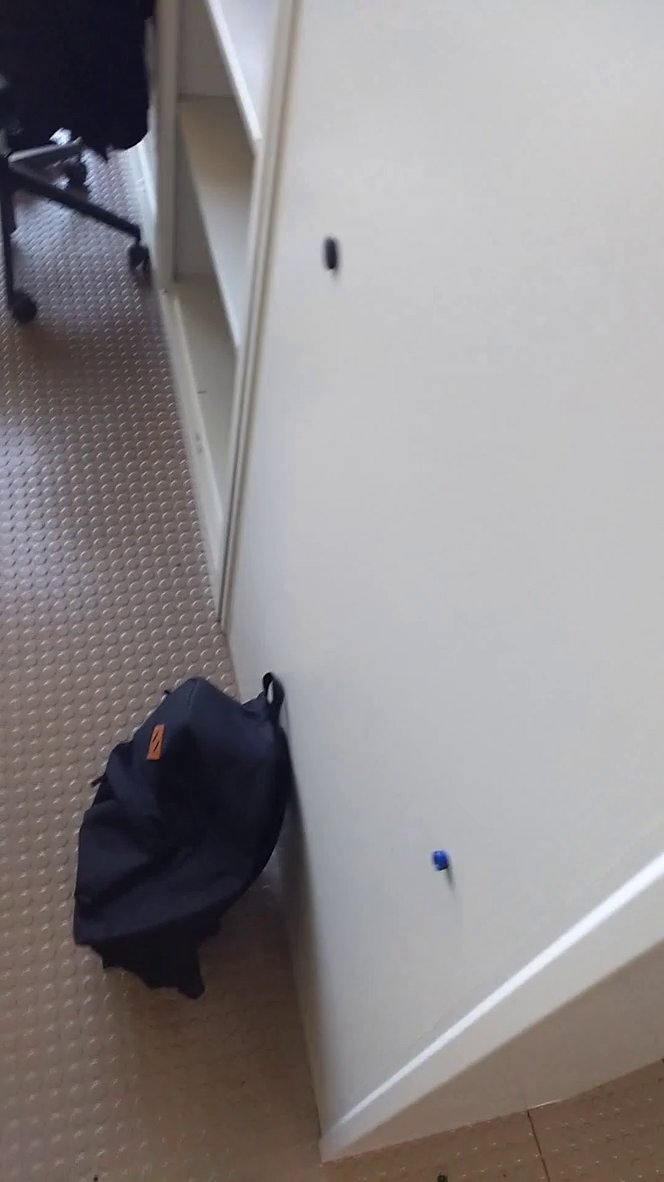bag: (65, 653, 316, 1036)
